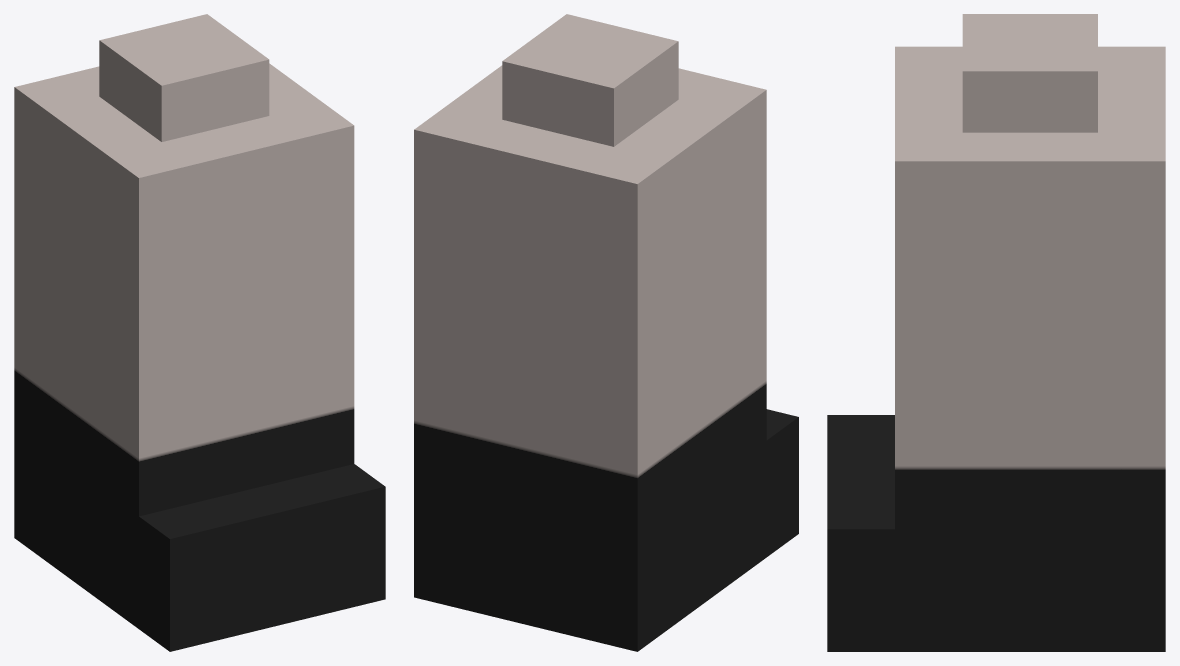
Rendered from Knee032.fbx.
3 views of the same model, side by side, from view 1: azimuth 30°, elevation 25°; view 2: azimuth 150°, elevation 25°; view 3: azimuth 270°, elevation 25° (orthographic). The views are drawn at different scales.
Parts seen in each view (by area): view 1: Knee032; view 2: Knee032; view 3: Knee032.
Part boxes in pixels (x1=…): Knee032: x1=14, y1=14, x2=385, y2=651; Knee032: x1=414, y1=14, x2=798, y2=651; Knee032: x1=827, y1=14, x2=1165, y2=651.
Bounding box in the file's own units: 4 × 9 × 5.
